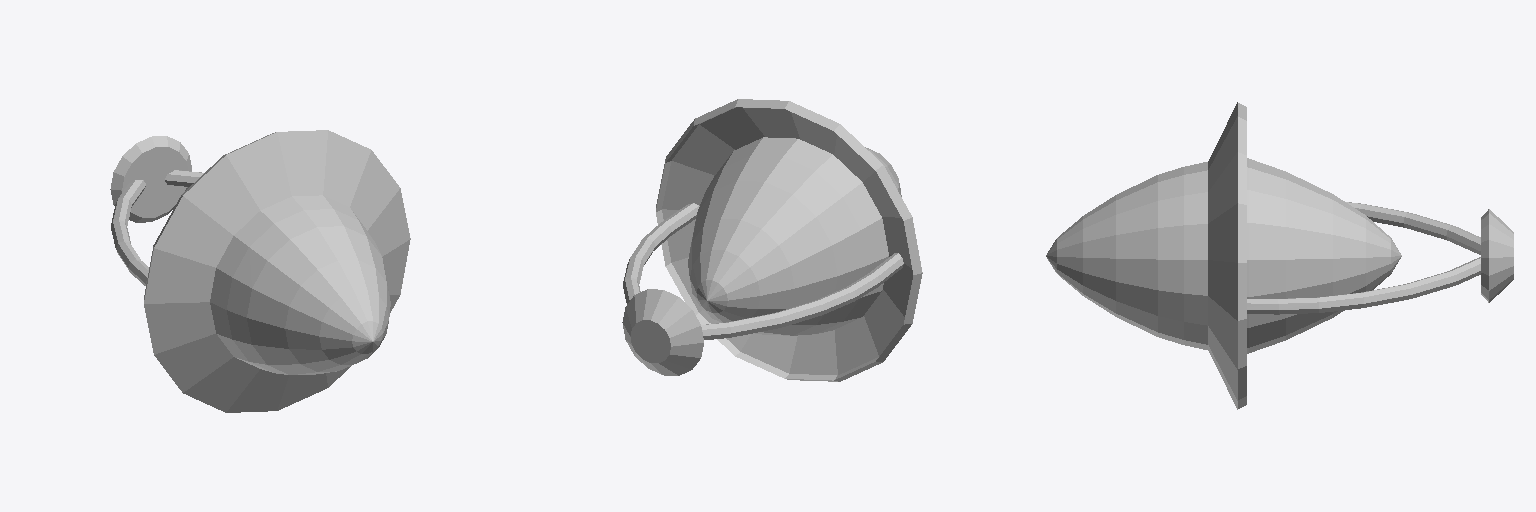
The model's file is Lucas VII.obj.
3 views of the same model, side by side, from view 1: azimuth 30°, elevation 25°; view 2: azimuth 150°, elevation 25°; view 3: azimuth 270°, elevation 25° (orthographic).
Parts seen in each view (by area): view 1: Lucas_VII_BezierCurve.009; view 2: Lucas_VII_BezierCurve.009; view 3: Lucas_VII_BezierCurve.009.
Part boxes in pixels (x1,y1,x2,y2): Lucas_VII_BezierCurve.009: (110,130,410,412); Lucas_VII_BezierCurve.009: (622,99,922,381); Lucas_VII_BezierCurve.009: (1046,102,1513,409).
Size of the model in its own units: 0.5534 by 0.5534 by 0.8417.